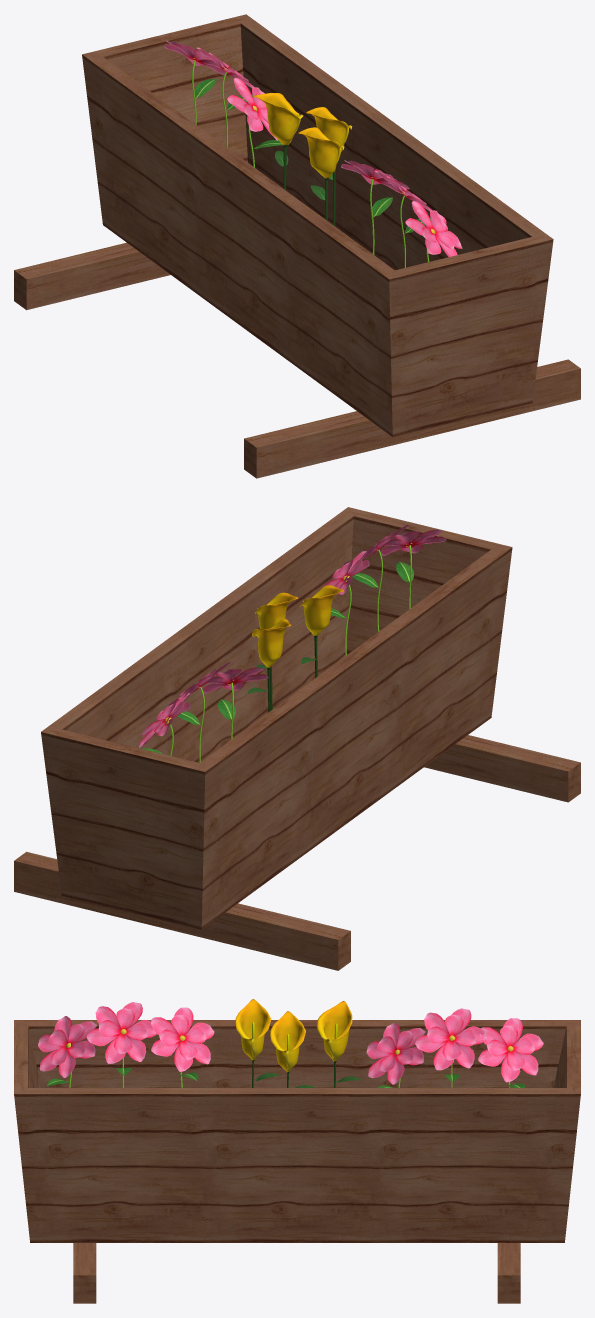
File: Flowers1.fbx
The picture shows the model from 3 angles, top to bottom: view 1: azimuth 30°, elevation 25°; view 2: azimuth 150°, elevation 25°; view 3: azimuth 270°, elevation 25°; orthographic projection. The views are drawn at different scales.
Visible parts, largest first — view 1: vase, vase .001, Yellow Flower.001, Pink Flower.002, Yellow Flower, Pink Flower.005, Pink Flower.001, Yellow Flower.002, Pink Flower.004, Pink Flower.003; view 2: vase, vase .001, Yellow Flower, Pink Flower.002, Pink Flower.005, Yellow Flower.001, Pink Flower.001, Pink Flower.004, Yellow Flower.002, Pink Flower.003, Pink Flower; view 3: vase, vase .001, Pink Flower.003, Pink Flower, Pink Flower.001, Pink Flower.004, Pink Flower.002, Pink Flower.005, Yellow Flower.001, Yellow Flower, Yellow Flower.002.
Boxes of the visible parts, box(x1,y1,x2,y2) form: vase: box(82, 14, 553, 436); vase .001: box(14, 242, 580, 478); Yellow Flower.001: box(253, 93, 303, 190); Pink Flower.002: box(405, 201, 462, 262); Yellow Flower: box(298, 127, 344, 220); Pink Flower.005: box(227, 78, 288, 167); Pink Flower.001: box(341, 160, 409, 254); Yellow Flower.002: box(306, 107, 352, 226); Pink Flower.004: box(164, 40, 226, 124); Pink Flower.003: box(197, 47, 254, 147); vase: box(41, 507, 512, 929); vase .001: box(14, 735, 580, 970); Yellow Flower: box(300, 585, 343, 677); Pink Flower.002: box(373, 529, 446, 609); Pink Flower.005: box(196, 667, 268, 739); Yellow Flower.001: box(247, 619, 290, 712); Pink Flower.001: box(322, 550, 369, 655); Pink Flower.004: box(139, 692, 191, 755); Yellow Flower.002: box(255, 592, 297, 710); Pink Flower.003: box(170, 662, 230, 762); Pink Flower: box(352, 525, 408, 631); vase: box(14, 1020, 580, 1242); vase .001: box(73, 1243, 520, 1303); Pink Flower.003: box(415, 1008, 487, 1087); Pink Flower: box(86, 1002, 156, 1087); Pink Flower.001: box(151, 1007, 214, 1087); Pink Flower.004: box(478, 1018, 543, 1087); Pink Flower.002: box(38, 1016, 96, 1087); Pink Flower.005: box(366, 1022, 425, 1087); Yellow Flower.001: box(317, 1001, 360, 1087); Yellow Flower: box(235, 999, 279, 1087); Yellow Flower.002: box(270, 1011, 314, 1087).
Bounding box in the file's own units: 111 × 79.94 × 182.
